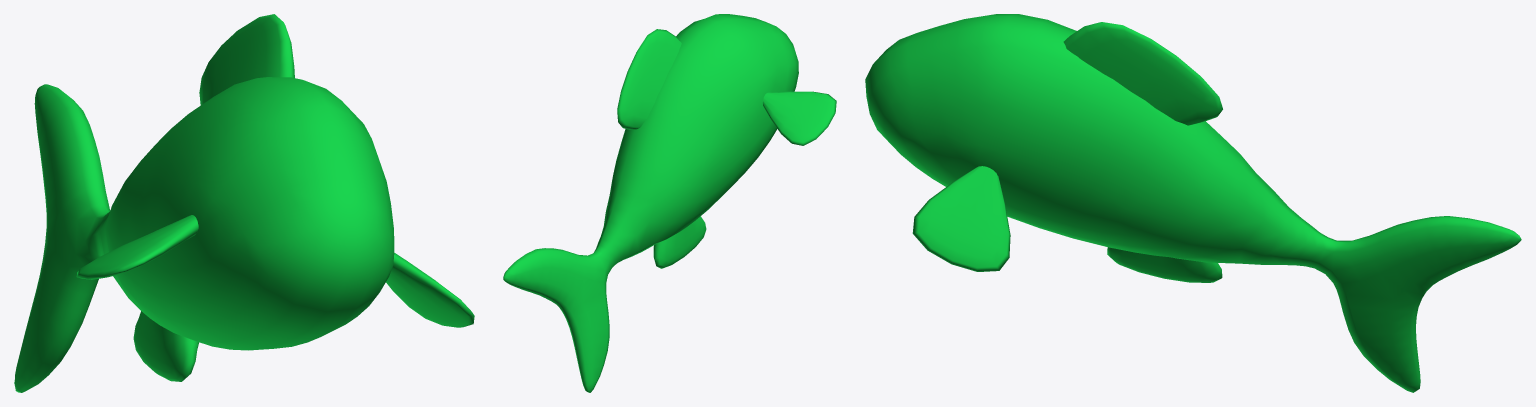
File: fish.glb
3 renders of one model, left to right at view 1: azimuth 30°, elevation 25°; view 2: azimuth 150°, elevation 25°; view 3: azimuth 270°, elevation 25°, orthographic. The views are drawn at different scales.
Visible parts, largest first — view 1: mesh_id34; view 2: mesh_id34; view 3: mesh_id34.
Boxes of the visible parts, x1,y1,x2,y2 form: mesh_id34: (14, 14, 474, 392); mesh_id34: (503, 14, 836, 392); mesh_id34: (865, 14, 1521, 392).
Size of the model in its own units: 0.1188 by 0.1658 by 0.2473.
Materials: 1 (1 with a texture image).
